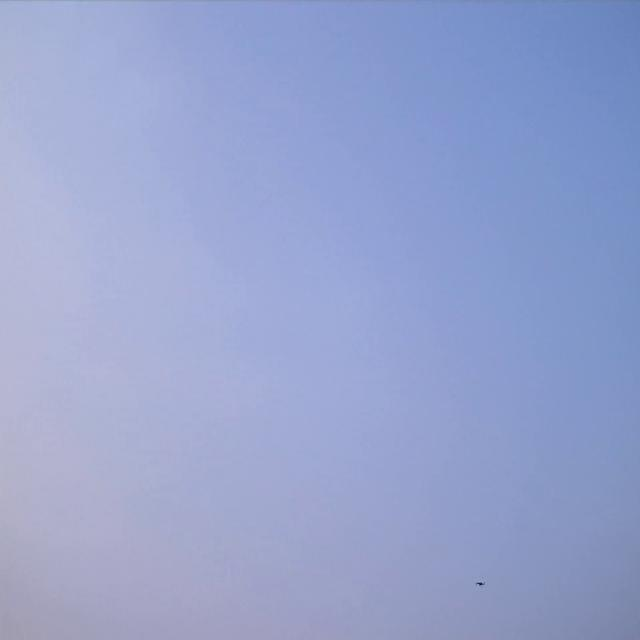UAV: (474, 580, 486, 586)
